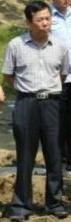boots: (2, 208, 26, 221)
